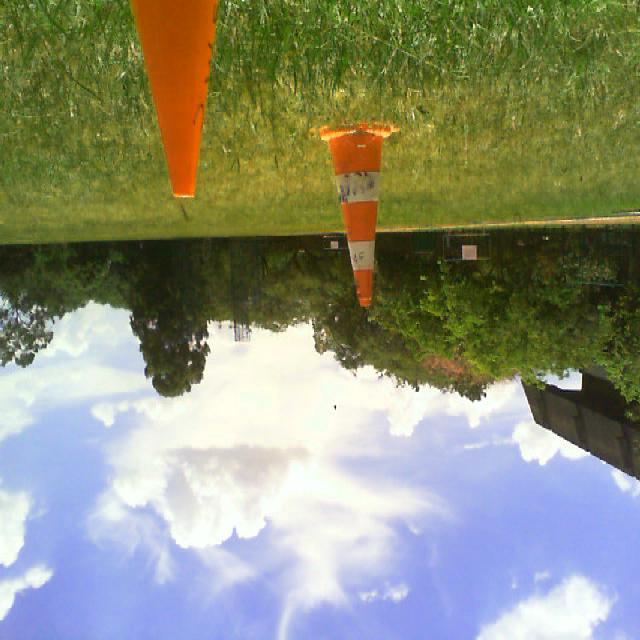cone: (128, 0, 218, 198), (309, 123, 399, 308)
